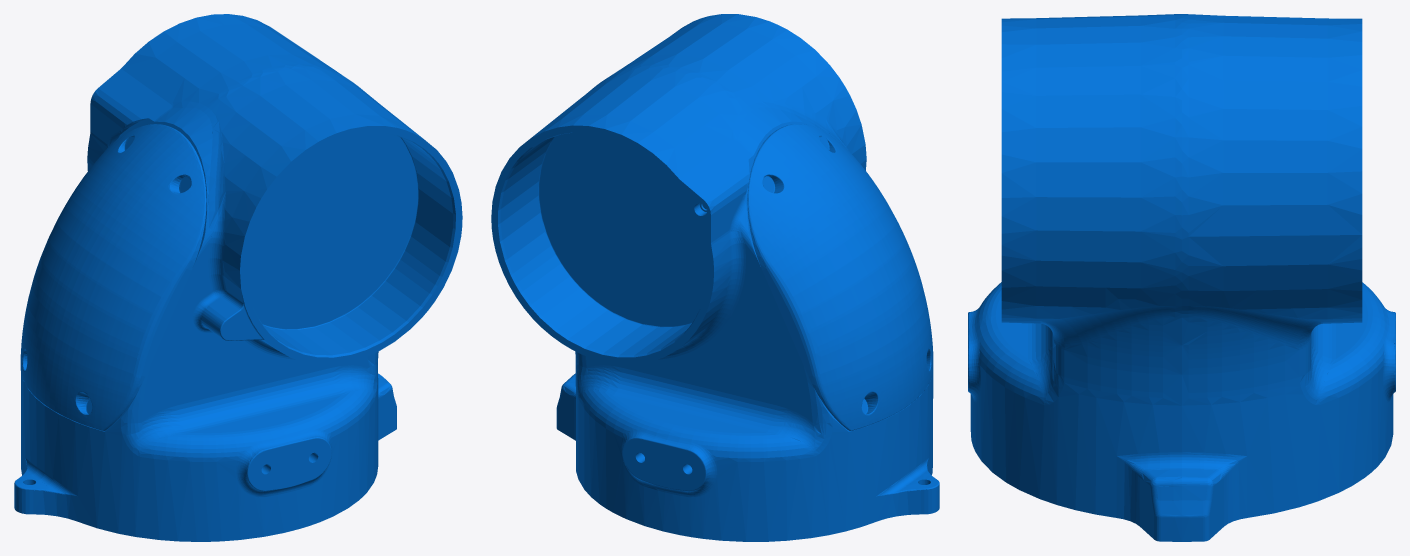
The model's file is MotomanGP7Link1.dae.
3 renders of one model, left to right at view 1: azimuth 30°, elevation 25°; view 2: azimuth 150°, elevation 25°; view 3: azimuth 270°, elevation 25°, orthographic. The views are drawn at different scales.
Parts seen in each view (by area): view 1: node_a384504d_892f_435c_93ad_40f37f20aff1_mesh0; view 2: node_a384504d_892f_435c_93ad_40f37f20aff1_mesh0; view 3: node_a384504d_892f_435c_93ad_40f37f20aff1_mesh0.
Part boxes in pixels (bbox=[...]): node_a384504d_892f_435c_93ad_40f37f20aff1_mesh0: bbox=[14, 14, 462, 541]; node_a384504d_892f_435c_93ad_40f37f20aff1_mesh0: bbox=[491, 14, 939, 541]; node_a384504d_892f_435c_93ad_40f37f20aff1_mesh0: bbox=[968, 14, 1395, 541].
Size of the model in its own units: 0.1978 by 0.166 by 0.1918.
